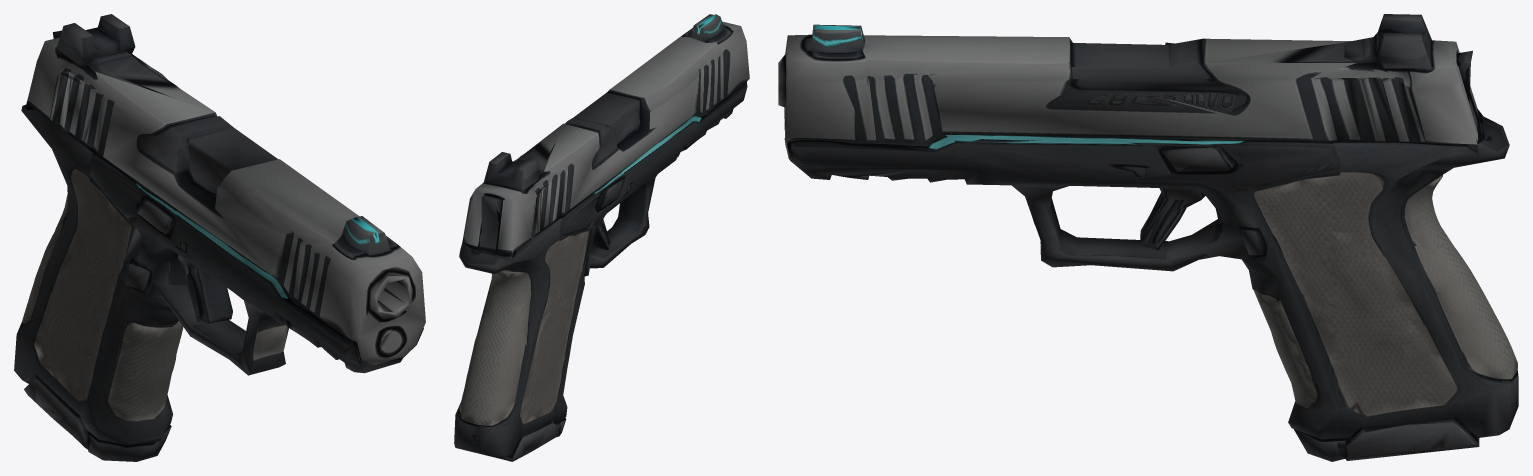
File: LalayTool_3000tri.fbx
The picture shows the model from 3 angles, left to right: view 1: azimuth 30°, elevation 25°; view 2: azimuth 150°, elevation 25°; view 3: azimuth 270°, elevation 25°; orthographic projection. The views are drawn at different scales.
Parts seen in each view (by area): view 1: LalayTool_Modern; view 2: LalayTool_Modern; view 3: LalayTool_Modern.
Part boxes in pixels (<box>): LalayTool_Modern: <box>14,14,425,461</box>; LalayTool_Modern: <box>454,14,749,461</box>; LalayTool_Modern: <box>778,14,1518,461</box>.
Bounding box in the file's own units: 2.6 × 11.87 × 18.99.
Materials: 1 (1 with a texture image).
